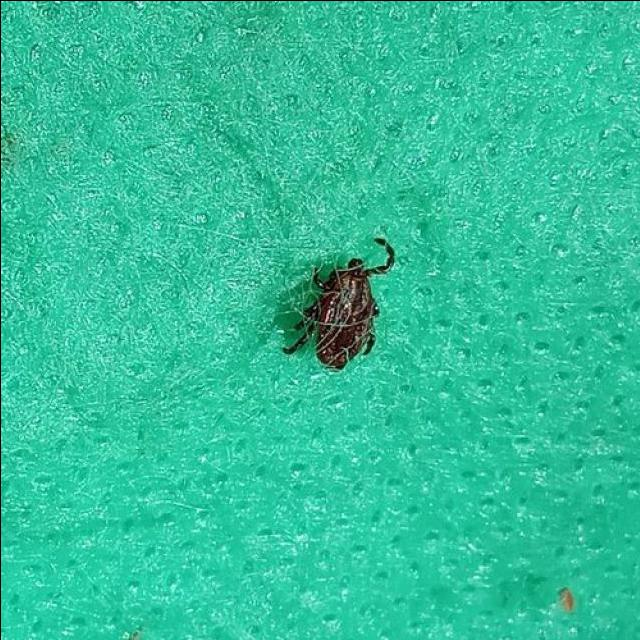Dermacentor Reticulatus-F: (282, 237, 394, 370)
